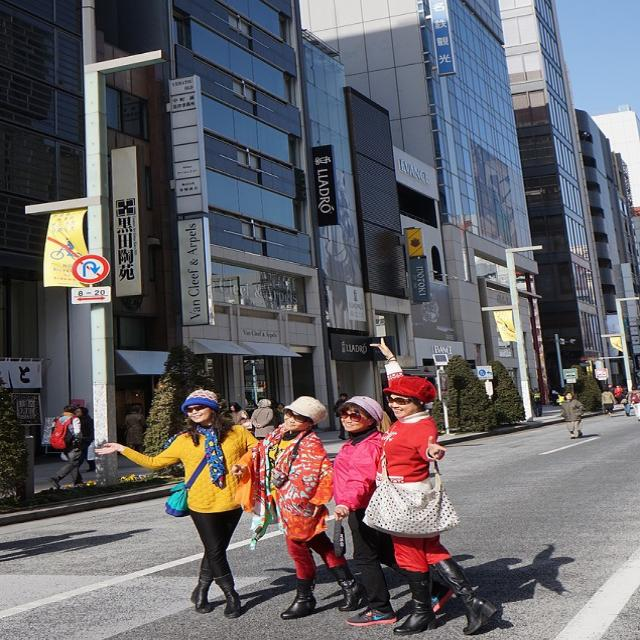body: (357, 336, 503, 638), (91, 386, 266, 621), (243, 393, 373, 622), (332, 394, 399, 626), (45, 403, 88, 489), (72, 406, 98, 474), (122, 403, 148, 454), (560, 389, 586, 439), (250, 397, 277, 440), (332, 392, 354, 441), (599, 386, 618, 418), (227, 401, 247, 426), (627, 384, 639, 422), (530, 386, 543, 418), (270, 401, 285, 427), (619, 387, 631, 417), (613, 384, 625, 405), (554, 392, 566, 412), (244, 397, 257, 410), (607, 382, 617, 396), (527, 386, 533, 393)
